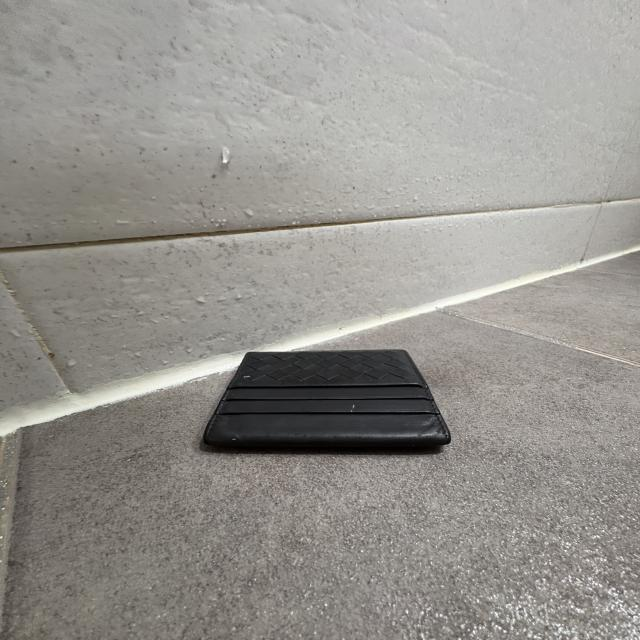wallet: (199, 349, 452, 453)
